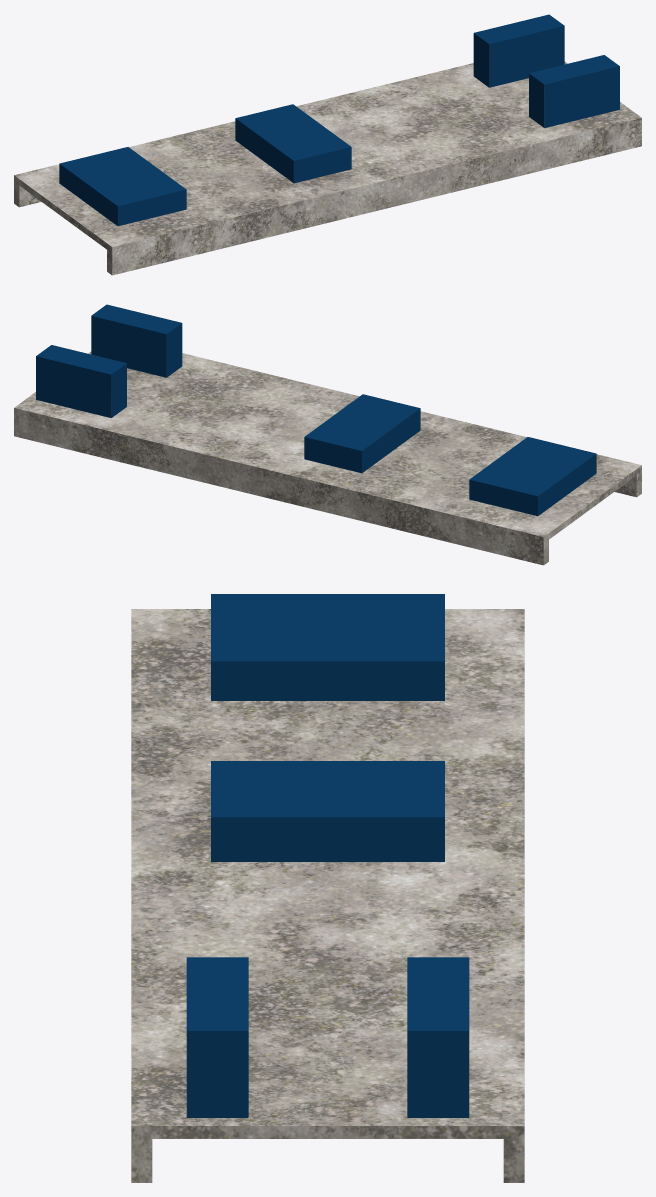
File: Pump@Base.fbx
3 renders of one model, top to bottom at view 1: azimuth 30°, elevation 25°; view 2: azimuth 150°, elevation 25°; view 3: azimuth 270°, elevation 25°, orthographic. The views are drawn at different scales.
Visible parts, largest first — view 1: FloorMount; view 2: FloorMount; view 3: FloorMount.
Part boxes in pixels (bbox=[...]): FloorMount: bbox=[14, 14, 641, 275]; FloorMount: bbox=[14, 304, 641, 565]; FloorMount: bbox=[131, 594, 524, 1182].
Bounding box in the file's own units: 528 × 68.54 × 170.
